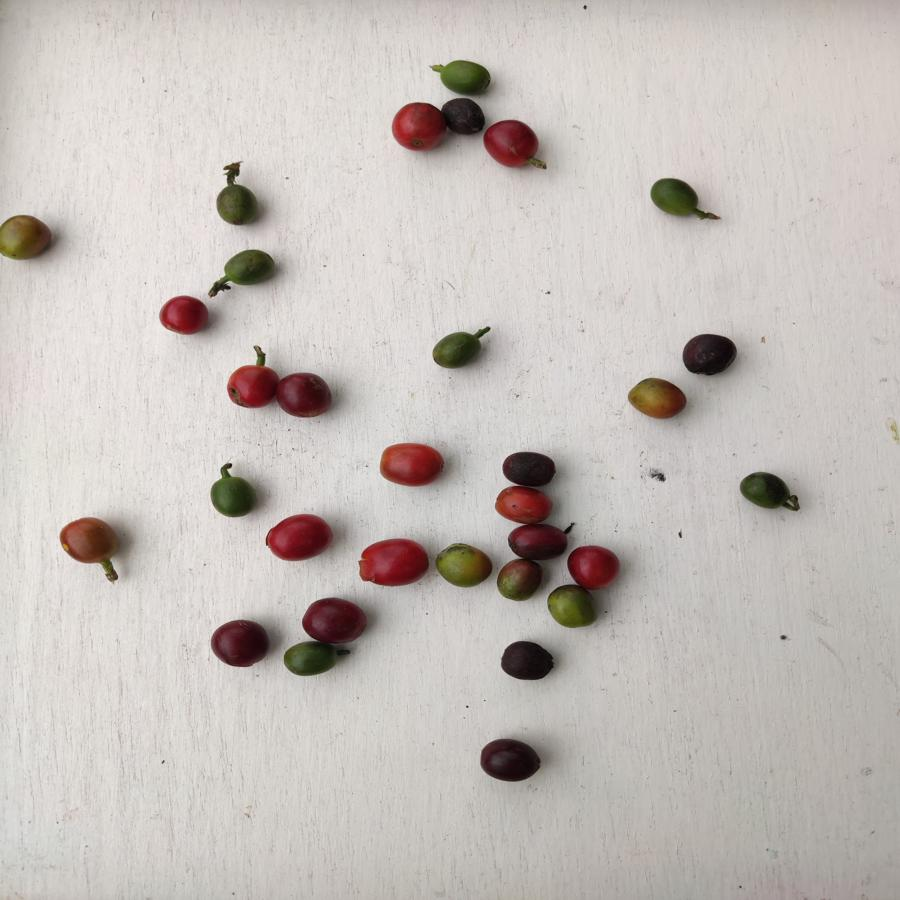Inmaduro: (739, 469, 793, 515), (435, 59, 496, 98), (432, 327, 483, 373), (221, 246, 277, 287), (282, 640, 338, 680), (651, 177, 703, 220), (209, 475, 257, 517), (215, 183, 259, 227)
Maduro: (358, 536, 429, 586), (263, 512, 332, 562), (483, 114, 542, 172), (390, 98, 445, 155), (379, 441, 444, 488), (567, 541, 622, 593), (226, 359, 277, 411), (493, 486, 556, 524), (154, 295, 209, 335)
Pinton: (56, 512, 122, 569), (627, 373, 689, 422), (435, 539, 495, 589), (1, 213, 54, 265), (548, 584, 603, 632), (496, 559, 544, 604)
Sobremaduro: (478, 734, 544, 784), (301, 597, 369, 645), (208, 618, 271, 669), (278, 373, 333, 419), (680, 333, 738, 375), (501, 640, 556, 682), (505, 524, 569, 560), (499, 450, 556, 486), (441, 97, 483, 137)
